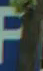Parking: (1, 1, 27, 68)
